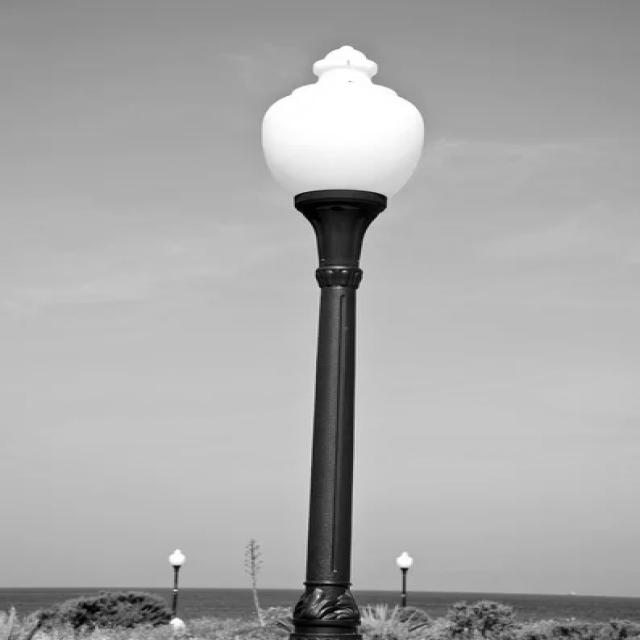Pole: (290, 190, 387, 639)
